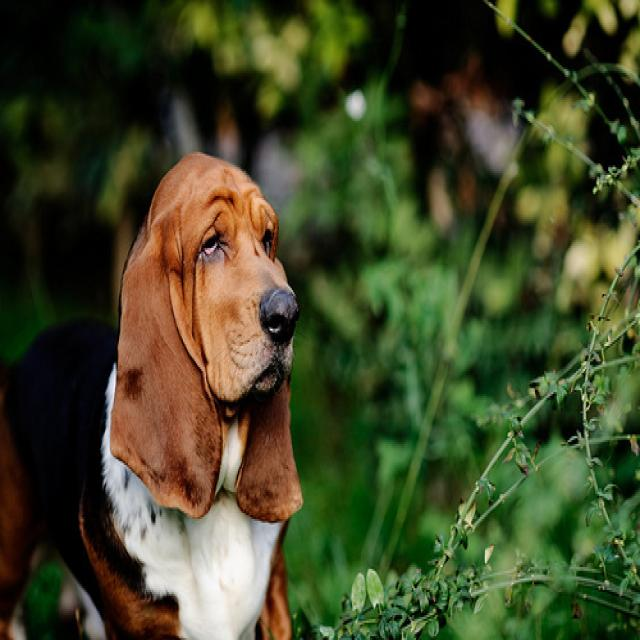dog-basset_hound: (1, 140, 308, 636)
